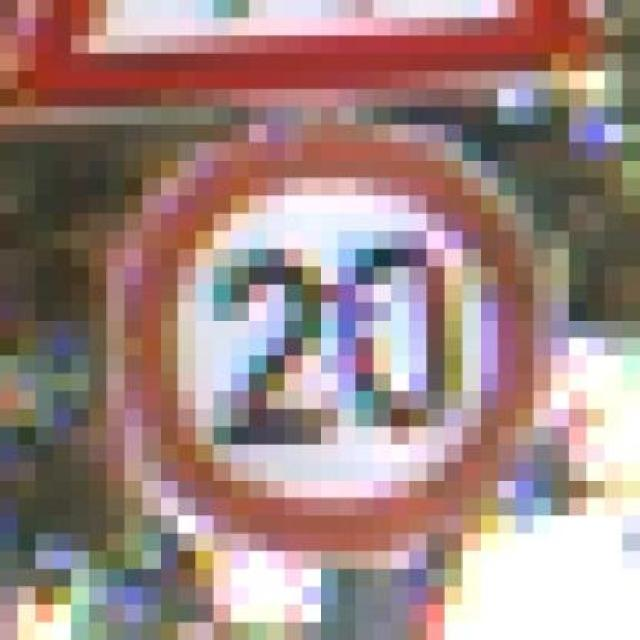forb_speed_over_20: (122, 125, 535, 549)
